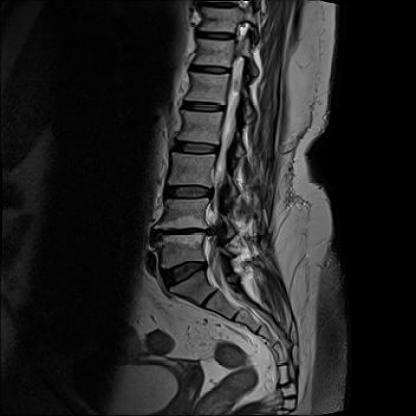Disc Bulgerotation: (157, 258, 216, 289)
Disc Herniationrotation: (150, 216, 221, 247)
